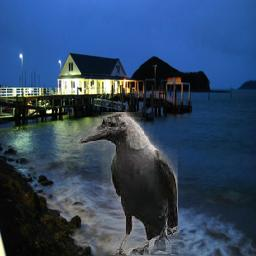Crow: (78, 113, 178, 256)
